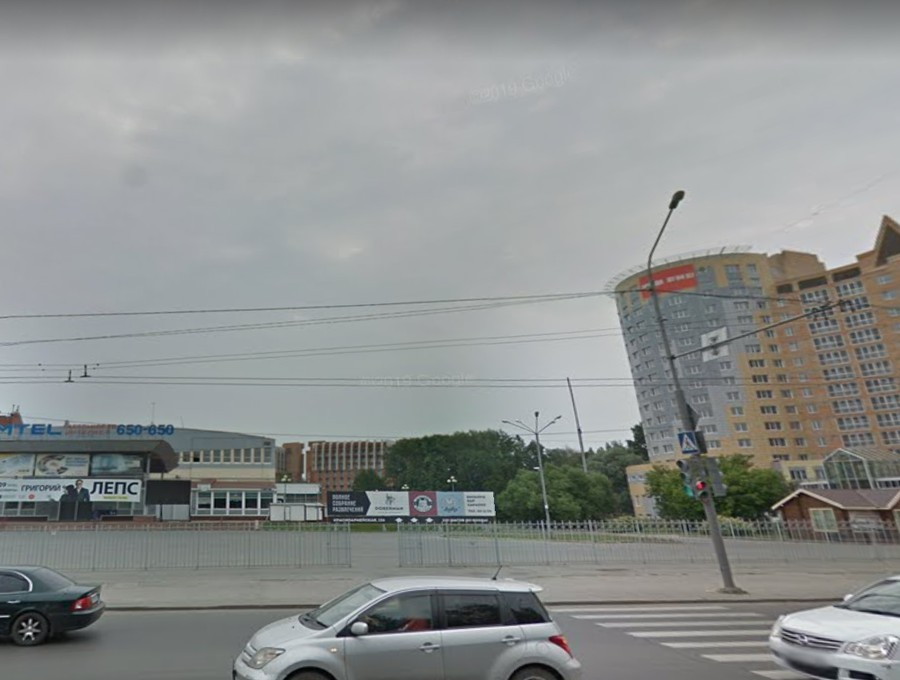Traffic Light-red: (695, 478, 711, 503)
